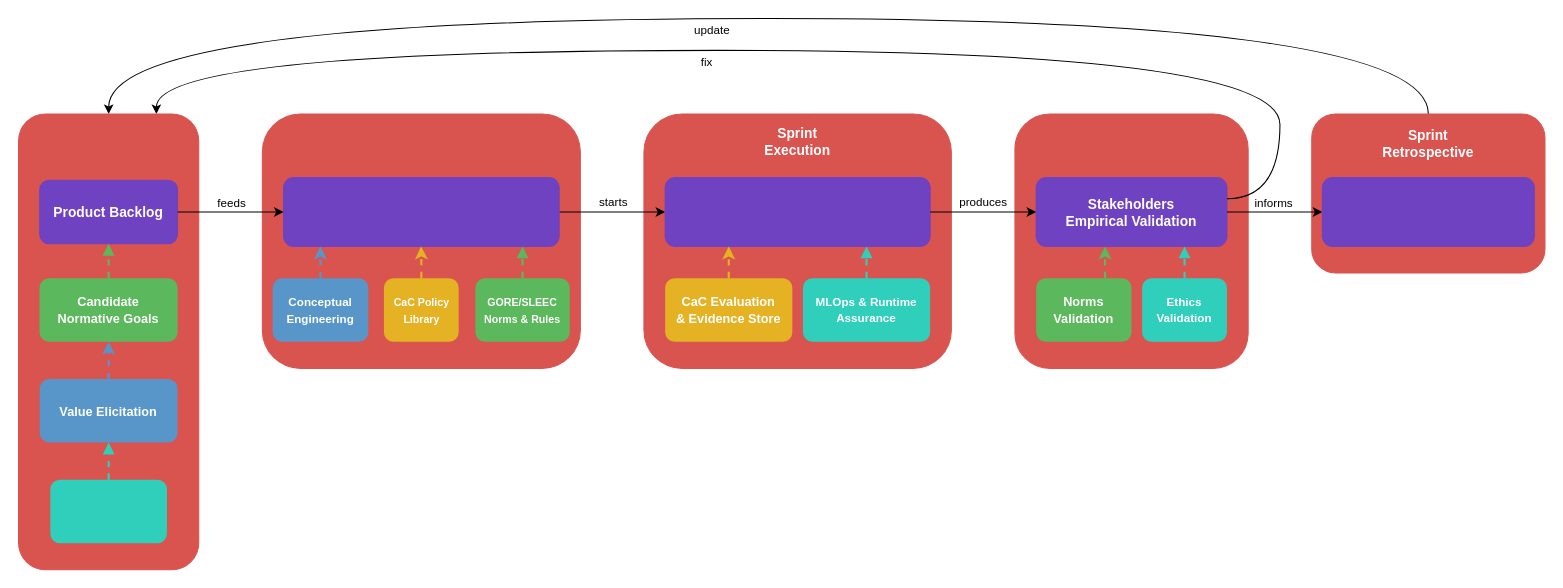
Image size: 1563x588. Some labels were removed from this diagram. Here are the shapes that lost their labels. From the top down, the box of each, then its label:
(282, 176, 559, 246): Sprint Goal & Sprint Backlog
(664, 176, 930, 246): CI/CD pipeline
(1321, 176, 1534, 246): Process & Responsibility Improvement
(261, 113, 580, 368): Sprint Planning
(1014, 113, 1248, 368): Sprint Review
(17, 113, 199, 570): Backlog Refinement
(50, 479, 166, 543): AI Risks & Data Sources
